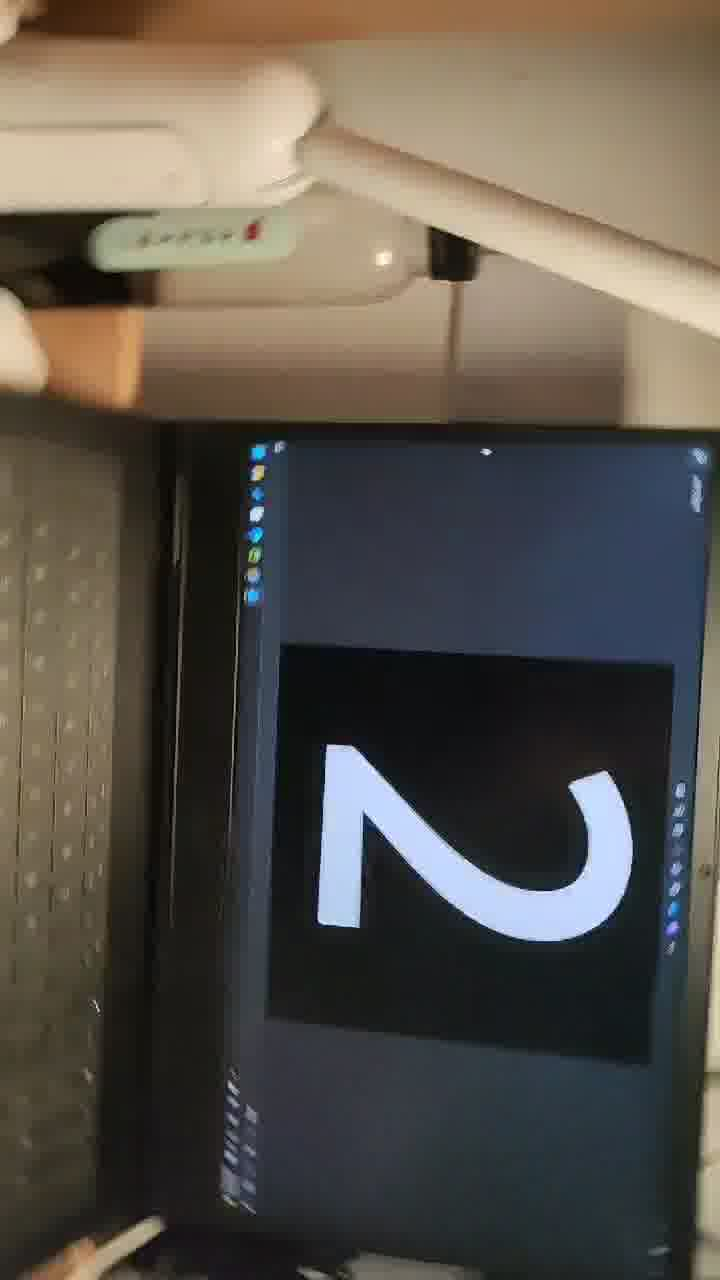two: (260, 667, 631, 1017)
